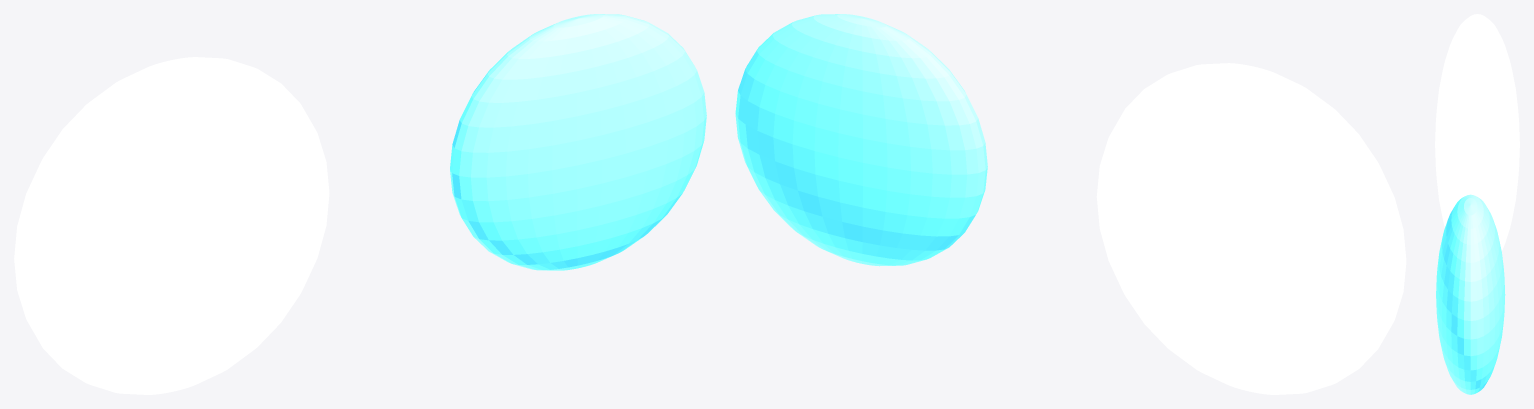
Rendered from goofyEyes.glb.
3 views of the same model, side by side, from view 1: azimuth 30°, elevation 25°; view 2: azimuth 150°, elevation 25°; view 3: azimuth 270°, elevation 25° (orthographic). The views are drawn at different scales.
Parts seen in each view (by area): view 1: Sphere; view 2: Sphere; view 3: Sphere.
Part boxes in pixels (x1,y1,x2,y2): Sphere: (14,14,706,394); Sphere: (735,14,1406,394); Sphere: (1435,14,1519,394).
Size of the model in its own units: 0.913 by 0.418 by 0.1355.
